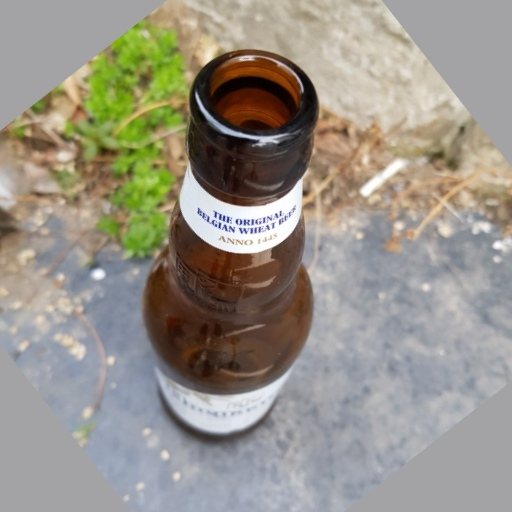Glass_1: (144, 48, 322, 447)
